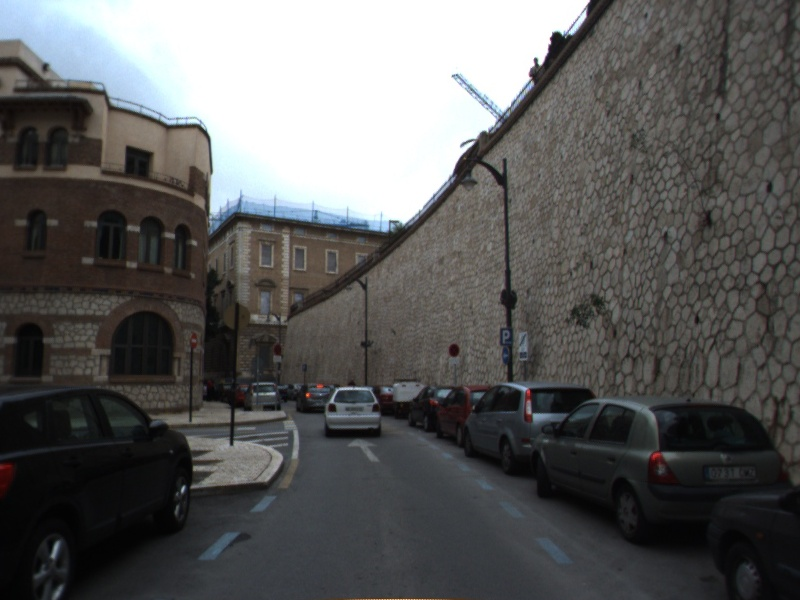STRAIGHT: (345, 436, 384, 464)
